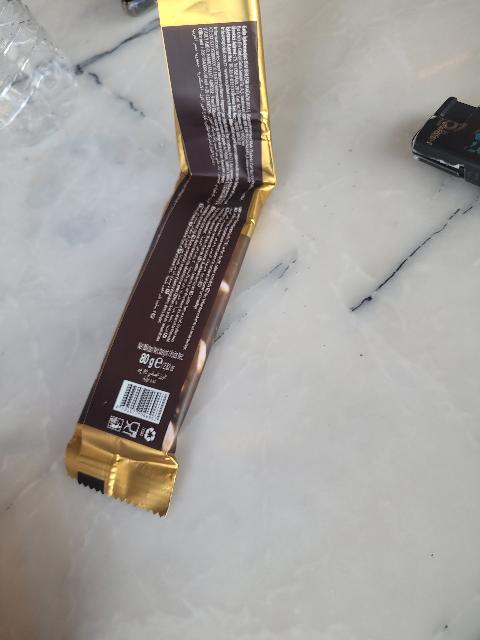Metal: (406, 88, 480, 219)
Plastik: (60, 0, 287, 525)
